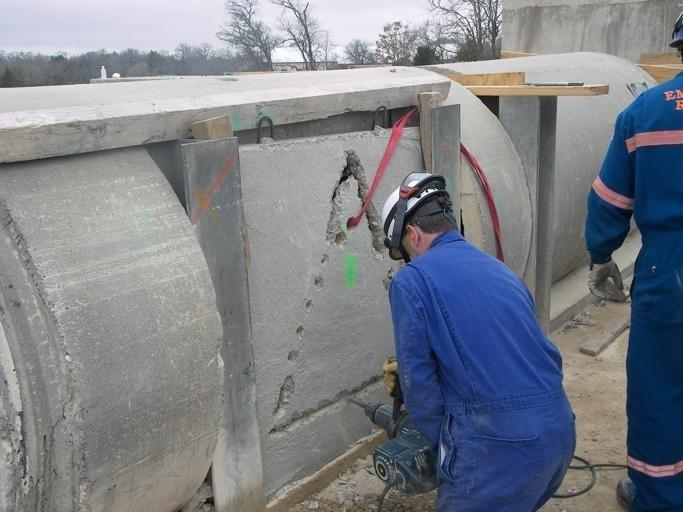Crack: (266, 149, 388, 443)
